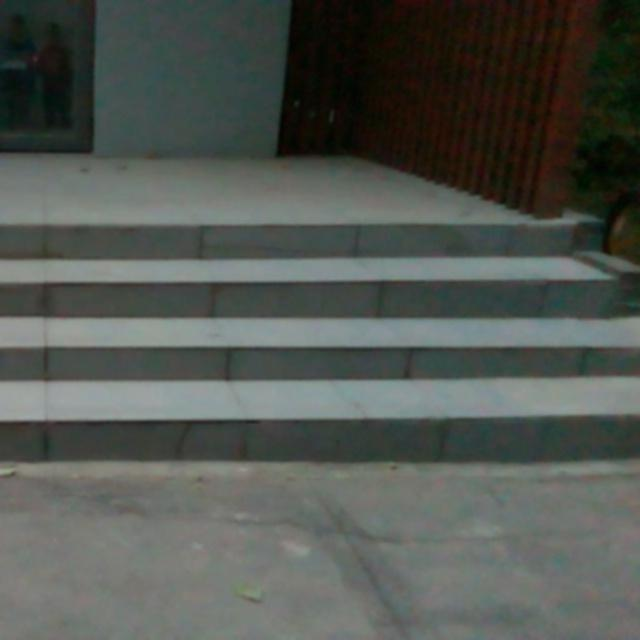stair: (0, 216, 619, 451)
